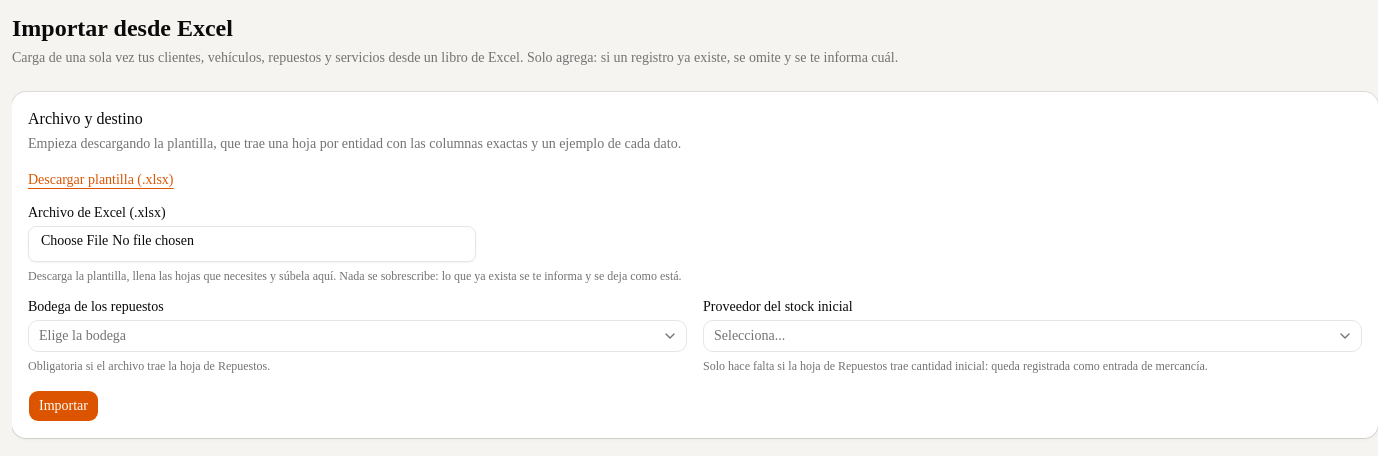
Test: ImportarPage › exige el permiso de importar y arma el formulario con bodegas y proveedores
Expected: the heading "Importar desde Excel" is shown, [12,15,233,41]
Expected: the dropdown named "Proveedor del stock inicial" is shown, [703,320,1362,352]
Click the dropdown named "Bodega de los repuestos": (83, 336) [28,320,687,352]
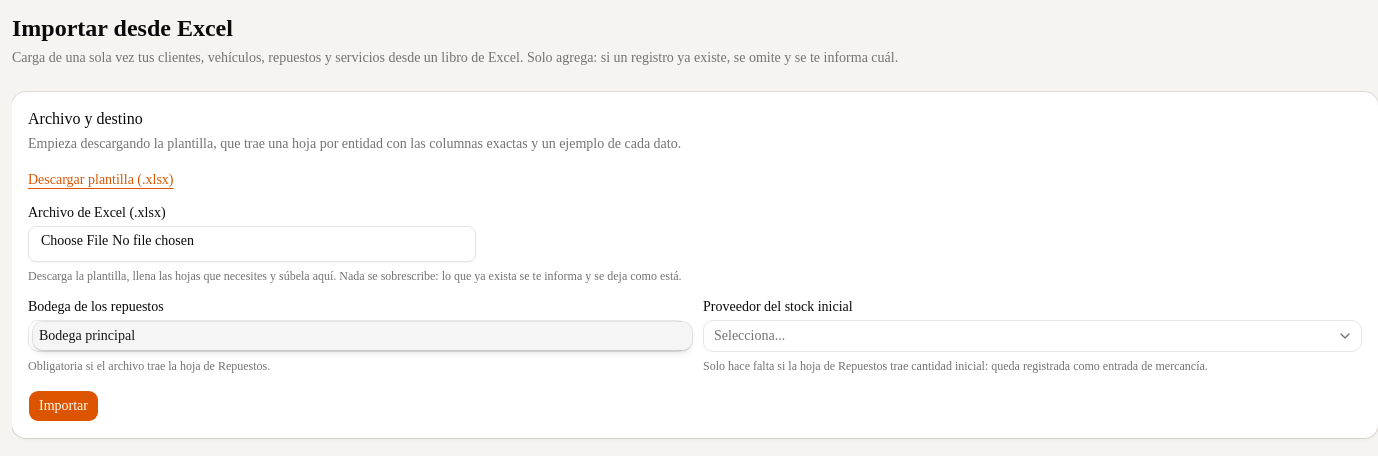
Expected: the option "Bodega principal" is shown, [33,322,692,350]
